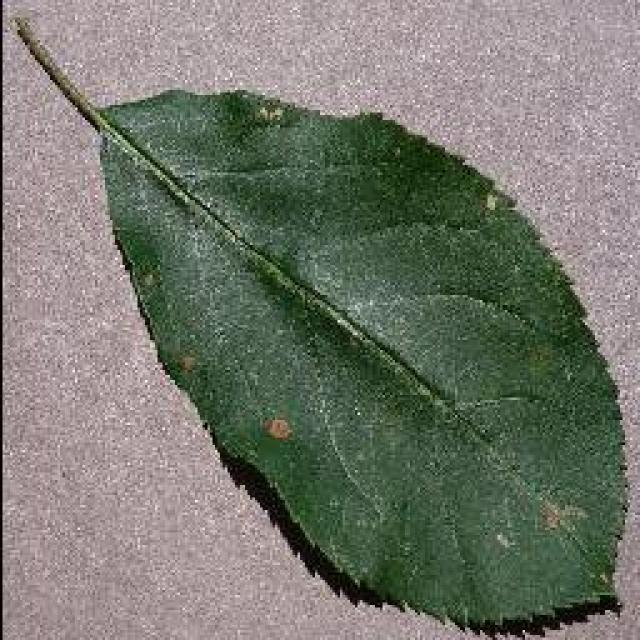apple healthy: (12, 12, 632, 638)
